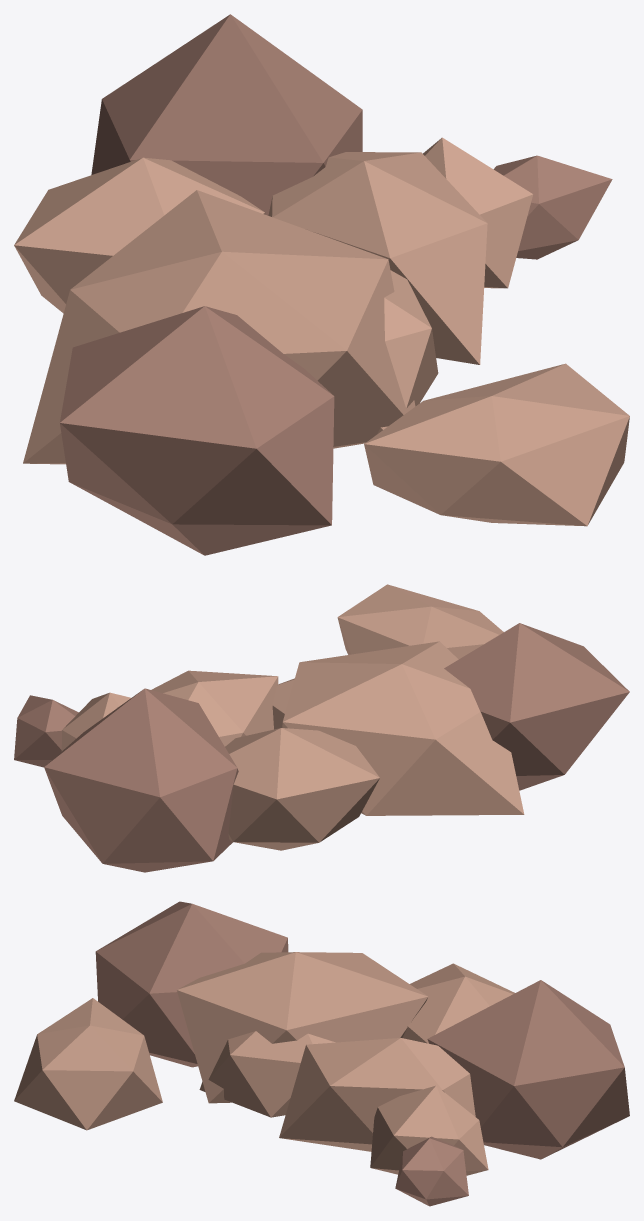
The model's file is rocks_coast.glb.
The picture shows the model from 3 angles, top to bottom: view 1: azimuth 30°, elevation 25°; view 2: azimuth 150°, elevation 25°; view 3: azimuth 270°, elevation 25°; orthographic projection. The views are drawn at different scales.
Visible parts, largest first — view 1: rocks_coast; view 2: rocks_coast; view 3: rocks_coast.
Boxes of the visible parts, x1,y1,x2,y2 form: rocks_coast: (14, 14, 629, 555); rocks_coast: (14, 584, 629, 872); rocks_coast: (14, 901, 629, 1206).
Size of the model in its own units: 13.34 by 4.87 by 15.02.
